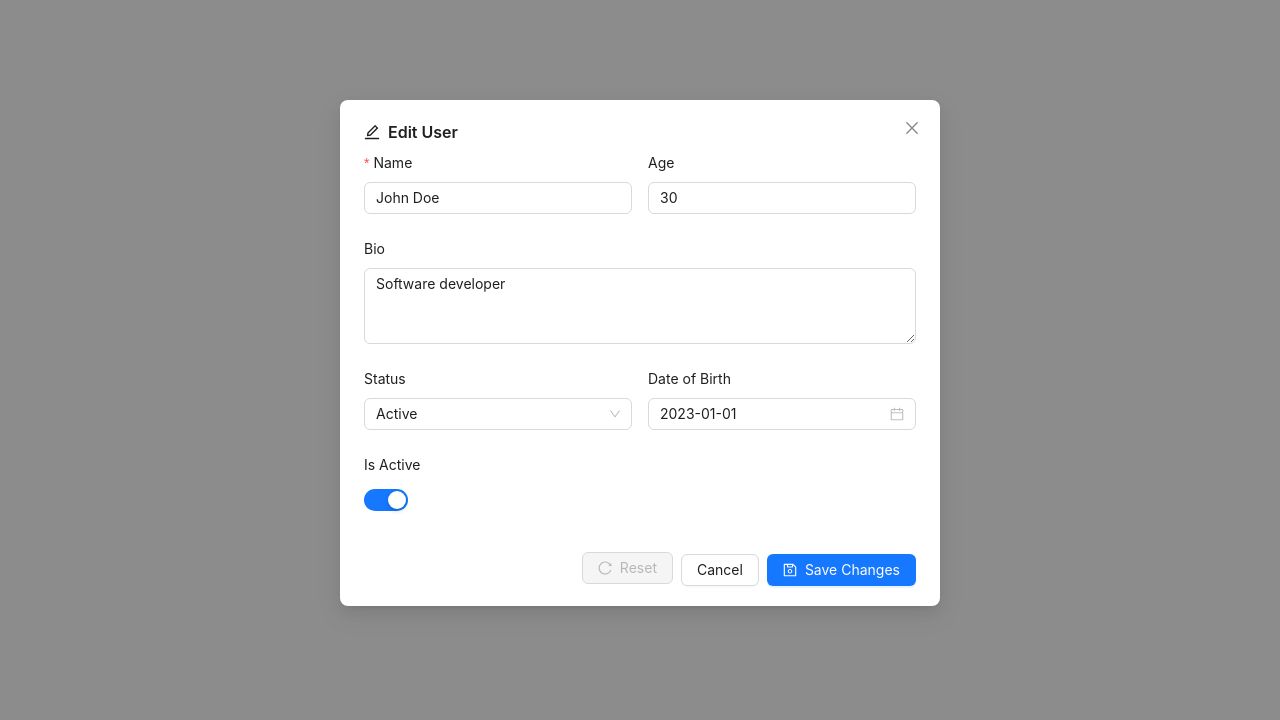
Test: EditModal › should reset form to original data when Reset is clicked
Expected: the button "Reset" is disabled, [582,552,673,584]
Make a change
Step 1. Replace the text in the field labelled "Name" with "Changed" → (498, 198), box [364,182,632,214]
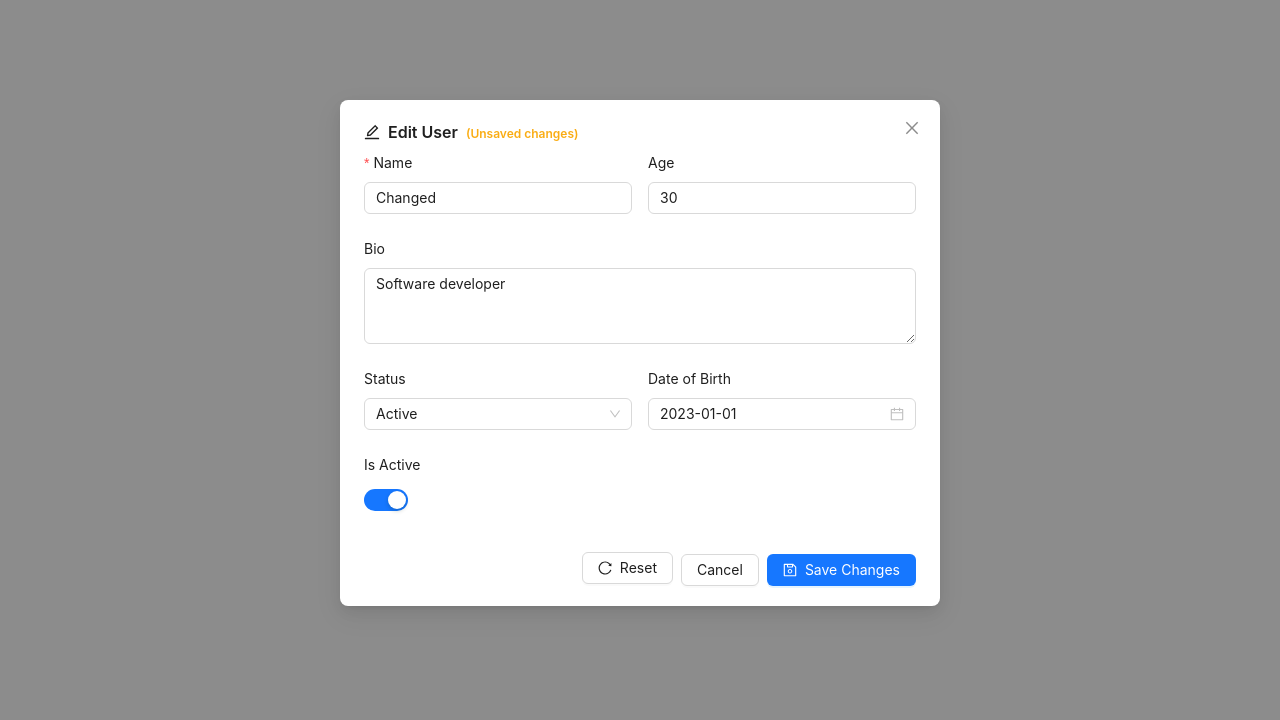
Result: the button "Reset" is enabled
Click Reset
Step 2. Click the button "Reset" → (627, 568), box [582,552,673,584]
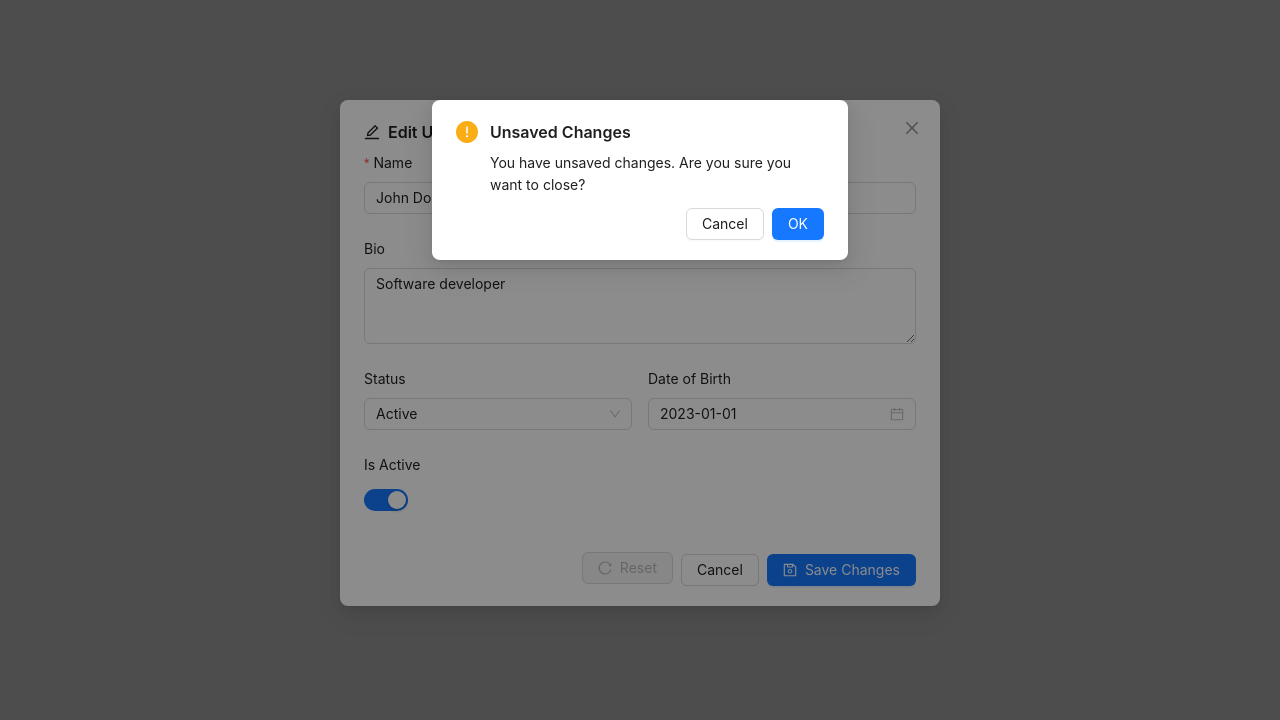
Result: the field labelled "Name" holds "John Doe" at [364,182,632,214]
Result: the button "Reset" is disabled at [582,552,673,584]
